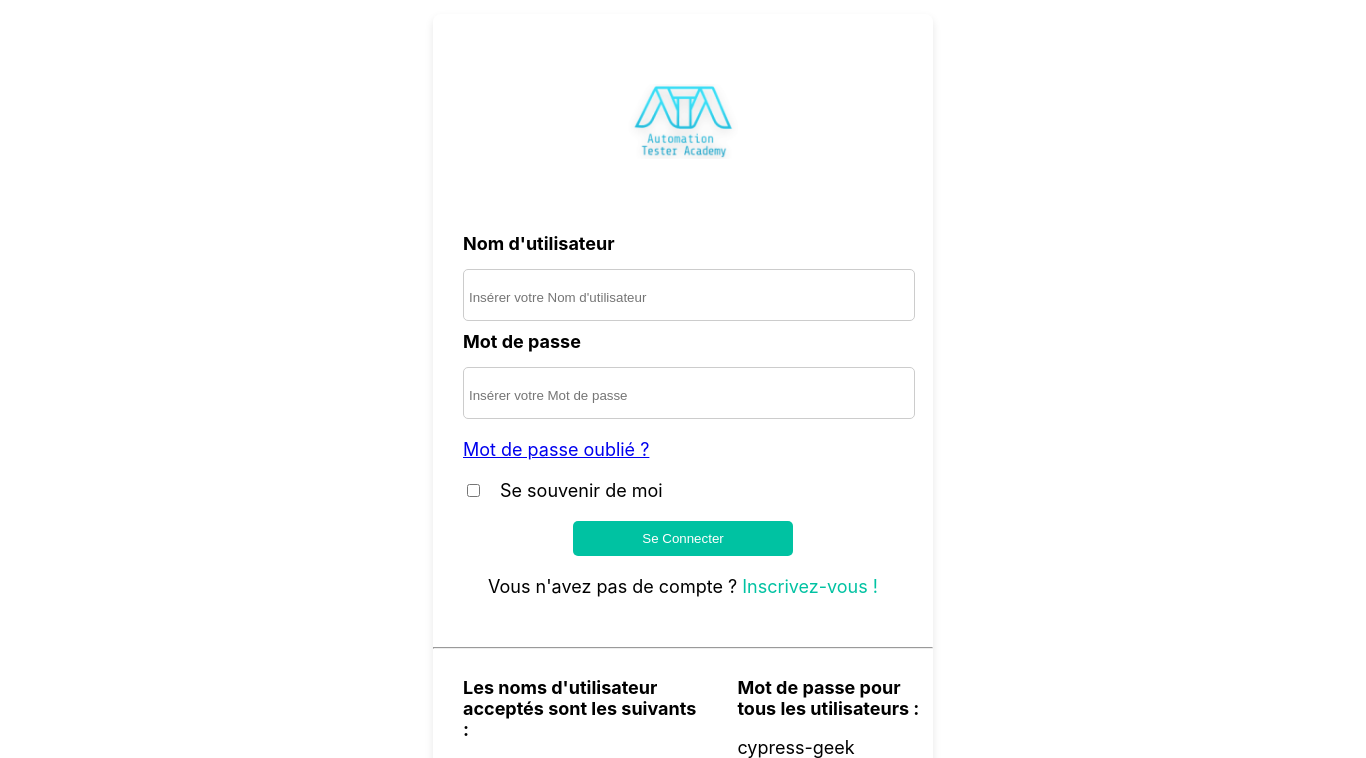
Scenario: Footer › should display the Footer elements
This screenshot has width=1366, height=758.
Step 1. Type "known_user" into the field with test id "username-login" → [689, 295], box [463,269,915,321]
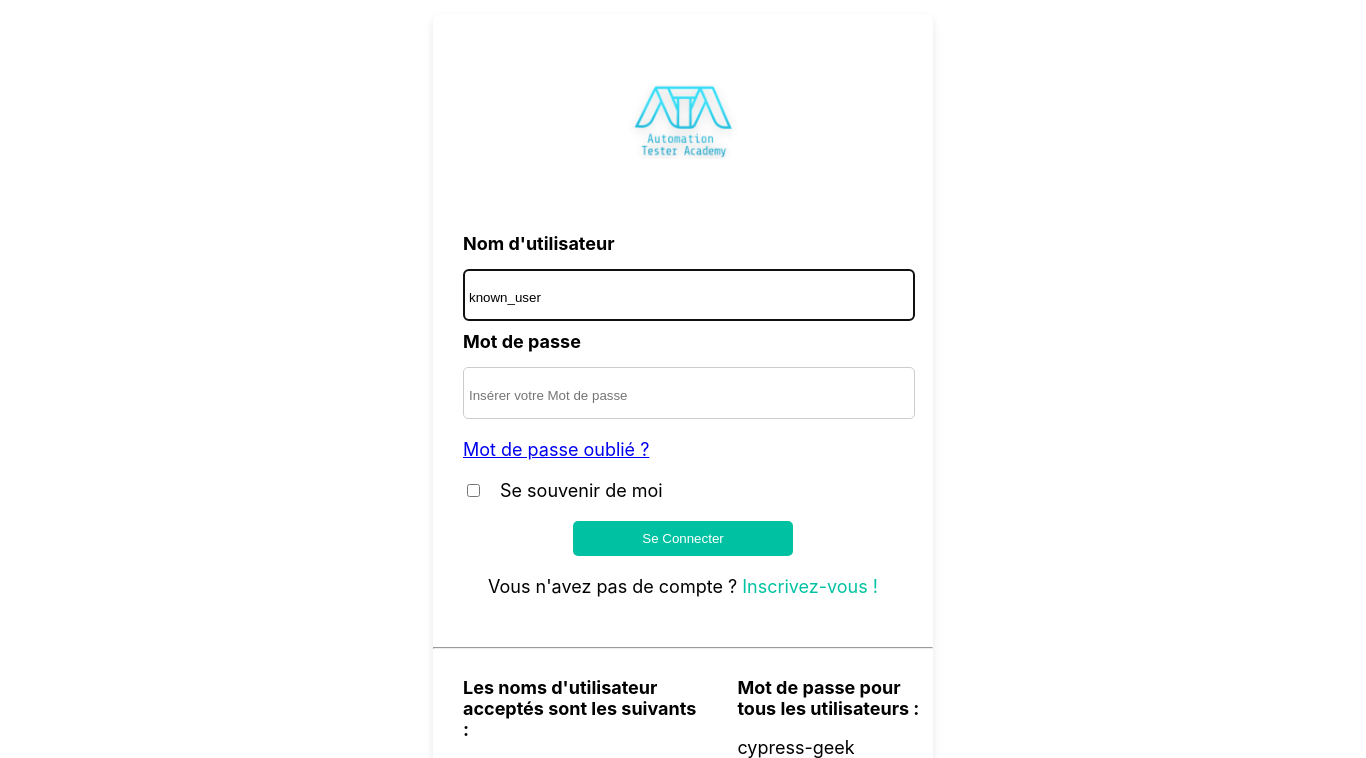
Step 2. Type "cypress-geek" into the password field with test id "password-login" → [689, 393], box [463,367,915,419]
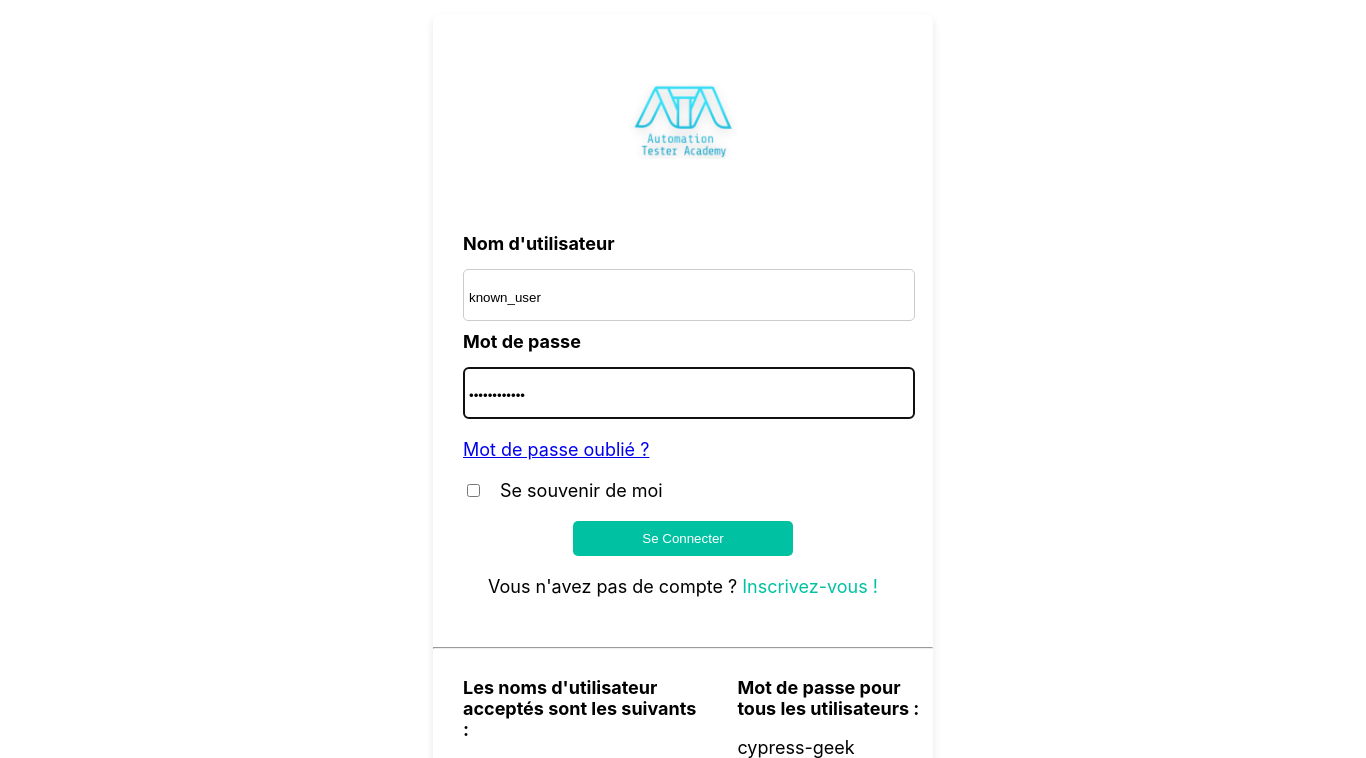
Step 3. Click the button with test id "submit-login" → [683, 539], box [573,521,793,556]
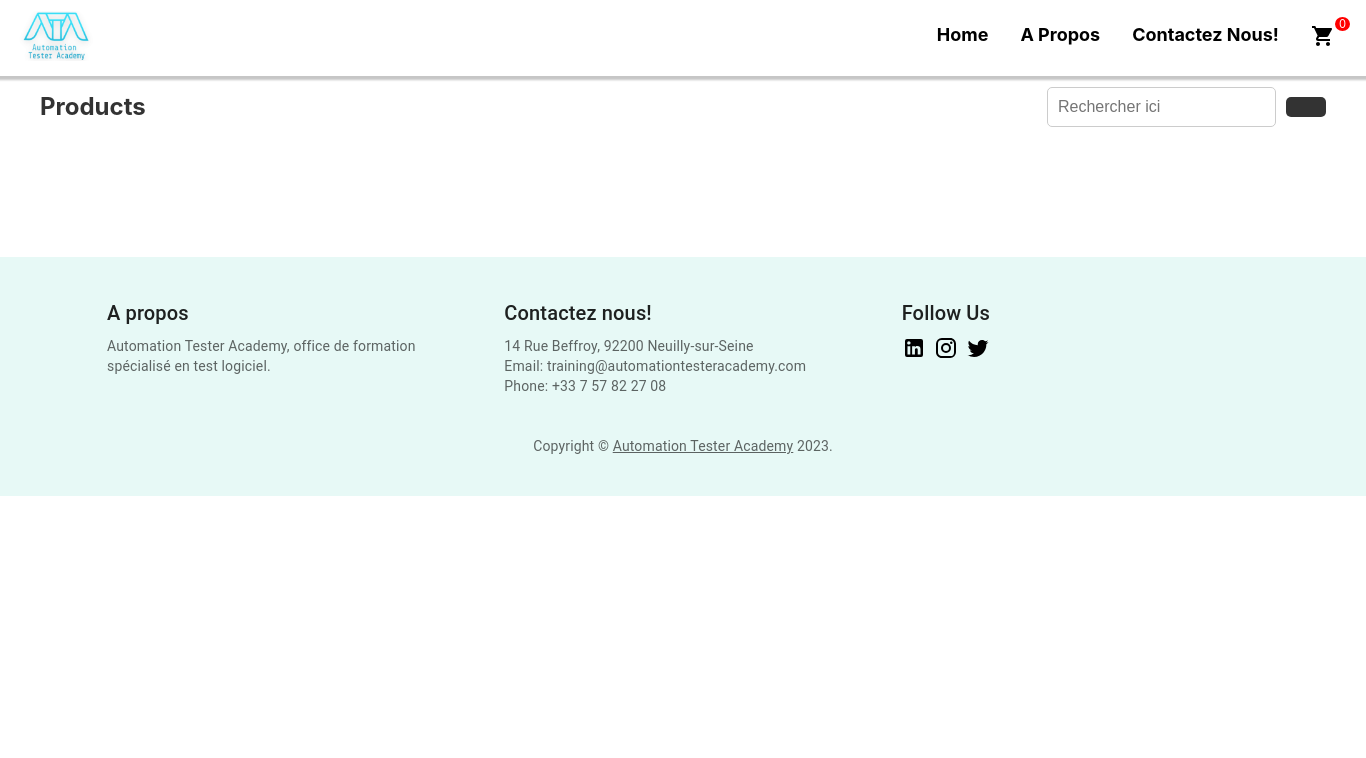
Expected: the heading "A propos" is shown, [107,301,189,325]
Expected: the text with test id "p-desc" is shown, [107,336,464,376]
Expected: the heading "Contactez nous!" is shown, [504,301,652,325]
